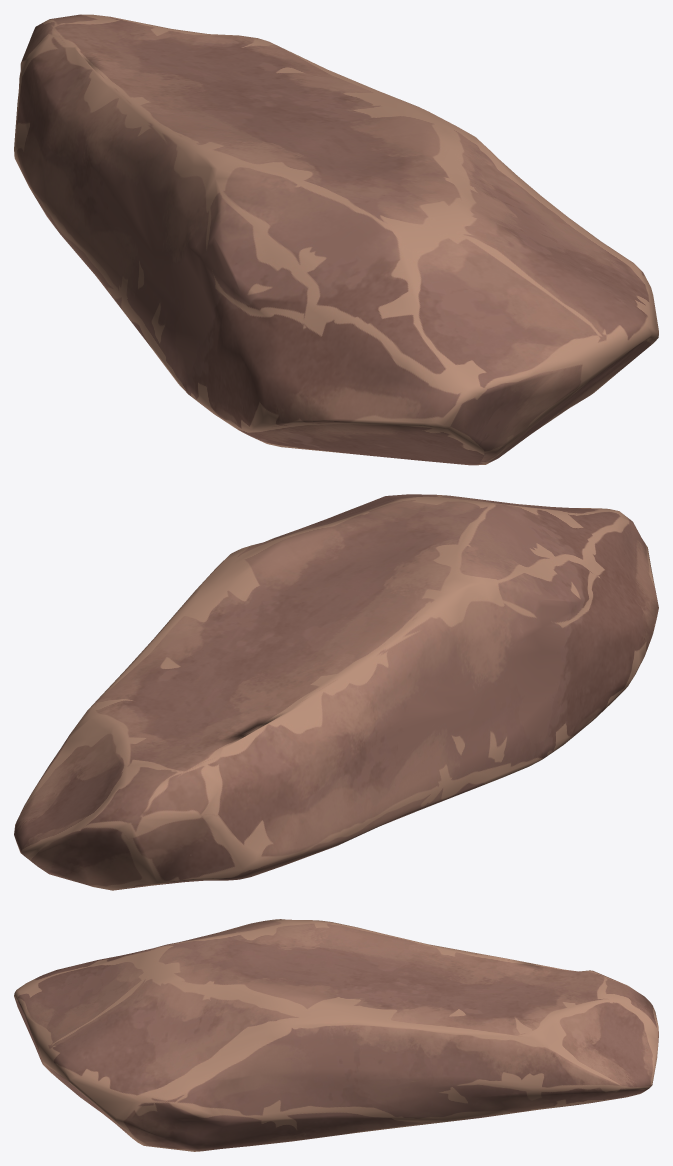
File: roche3 texturée.FBX
The picture shows the model from 3 angles, top to bottom: view 1: azimuth 30°, elevation 25°; view 2: azimuth 150°, elevation 25°; view 3: azimuth 270°, elevation 25°; orthographic projection. The views are drawn at different scales.
Parts seen in each view (by area): view 1: Group54260; view 2: Group54260; view 3: Group54260.
Boxes of the visible parts, left/top/right/bottom form: Group54260: left=14, top=14, right=658, bottom=465; Group54260: left=14, top=494, right=658, bottom=890; Group54260: left=14, top=919, right=658, bottom=1151.
Bounding box in the file's own units: 72.68 × 37.06 × 152.
Materials: 1 (1 with a texture image).
